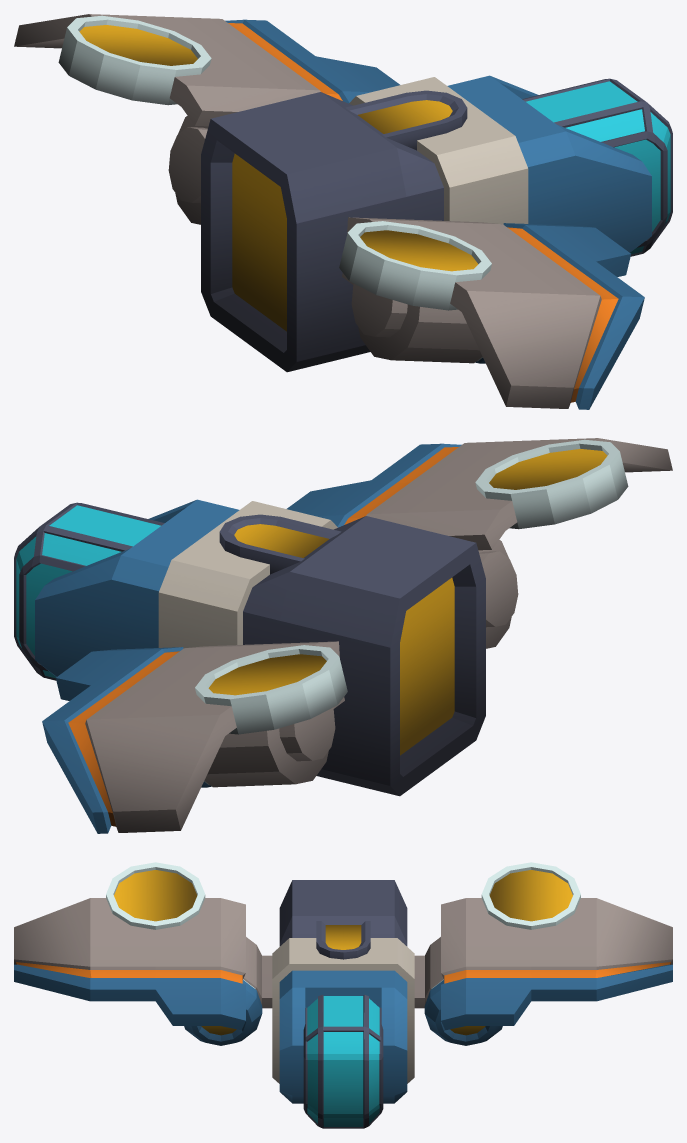
File: Hauler.fbx
3 views of the same model, one above another, from view 1: azimuth 30°, elevation 25°; view 2: azimuth 150°, elevation 25°; view 3: azimuth 270°, elevation 25° (orthographic). The views are drawn at different scales.
Parts seen in each view (by area): view 1: Hauler; view 2: Hauler; view 3: Hauler.
Part boxes in pixels (left/top/right/bottom): Hauler: left=14, top=14, right=672, bottom=409; Hauler: left=14, top=438, right=672, bottom=833; Hauler: left=14, top=862, right=672, bottom=1128.
Bounding box in the file's own units: 401 × 187 × 763.
Materials: 1 (1 with a texture image).
